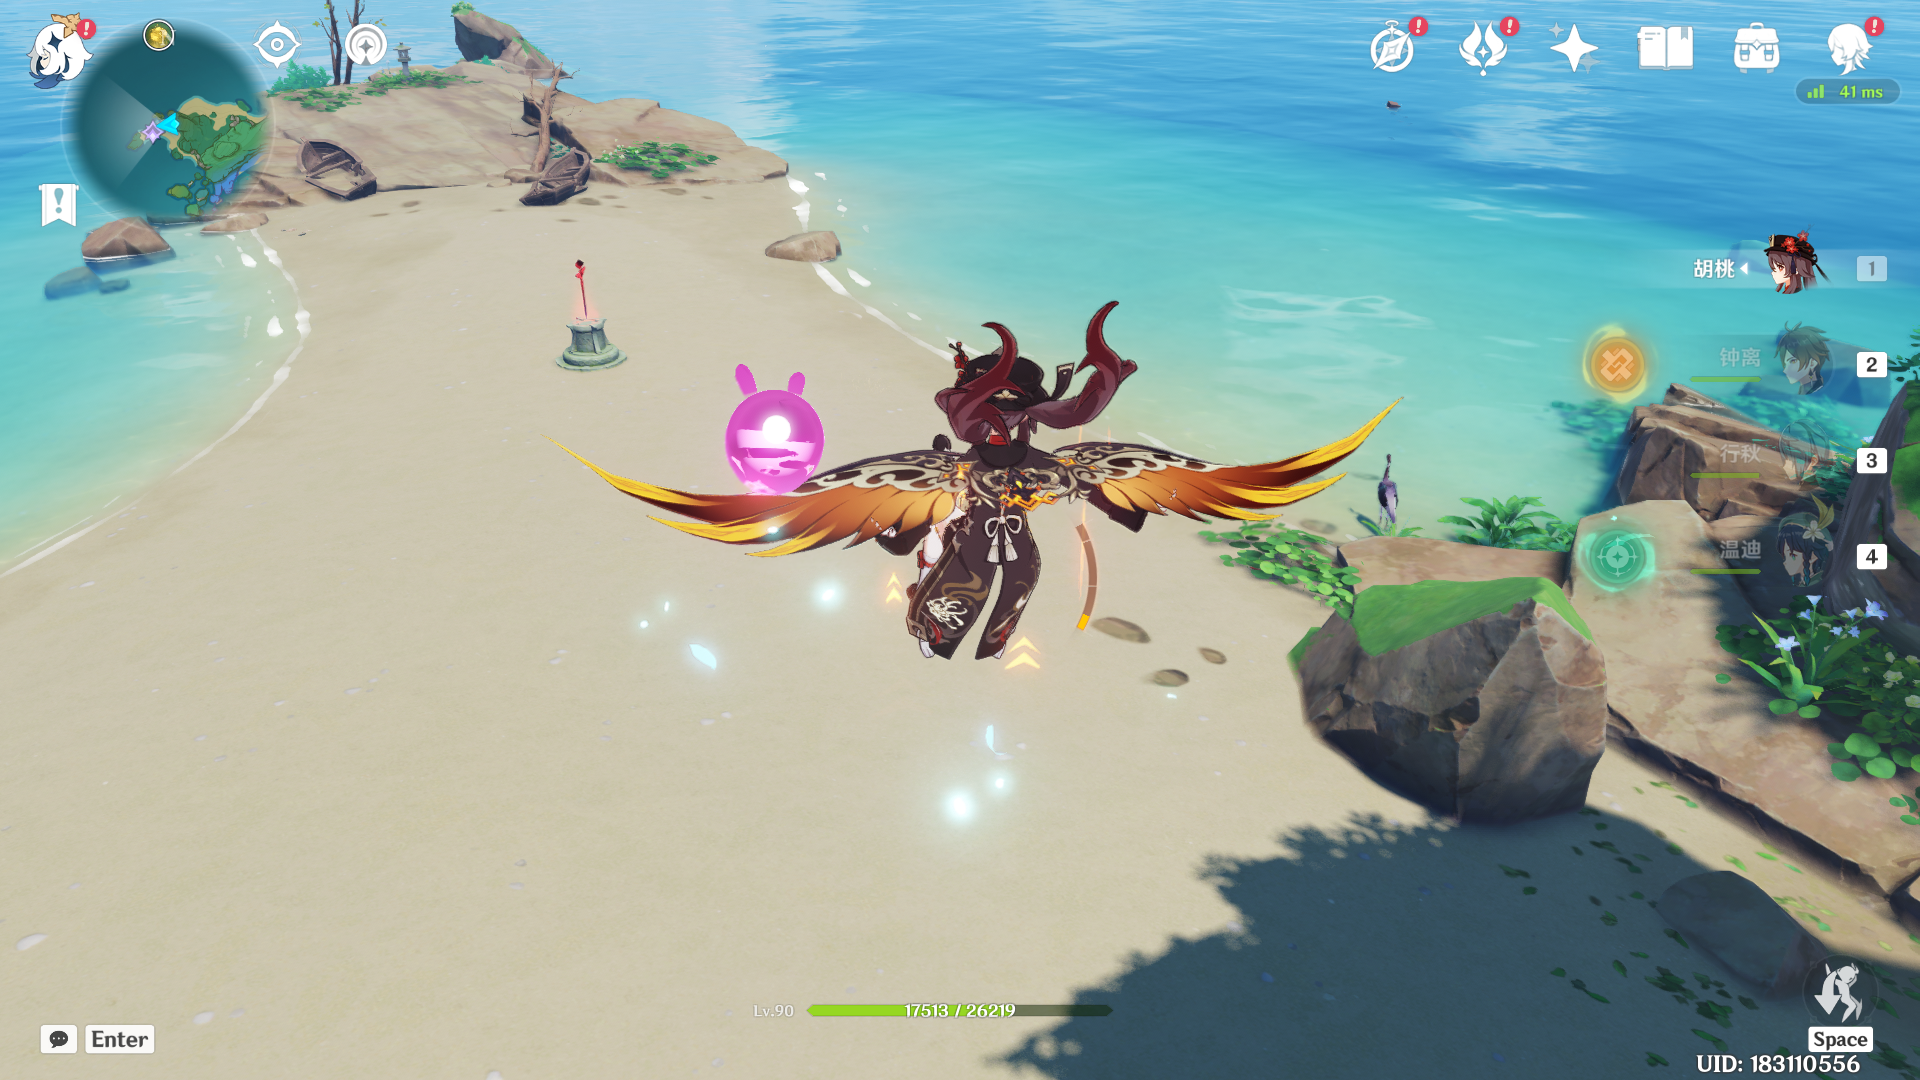character: (793, 295, 1193, 791)
